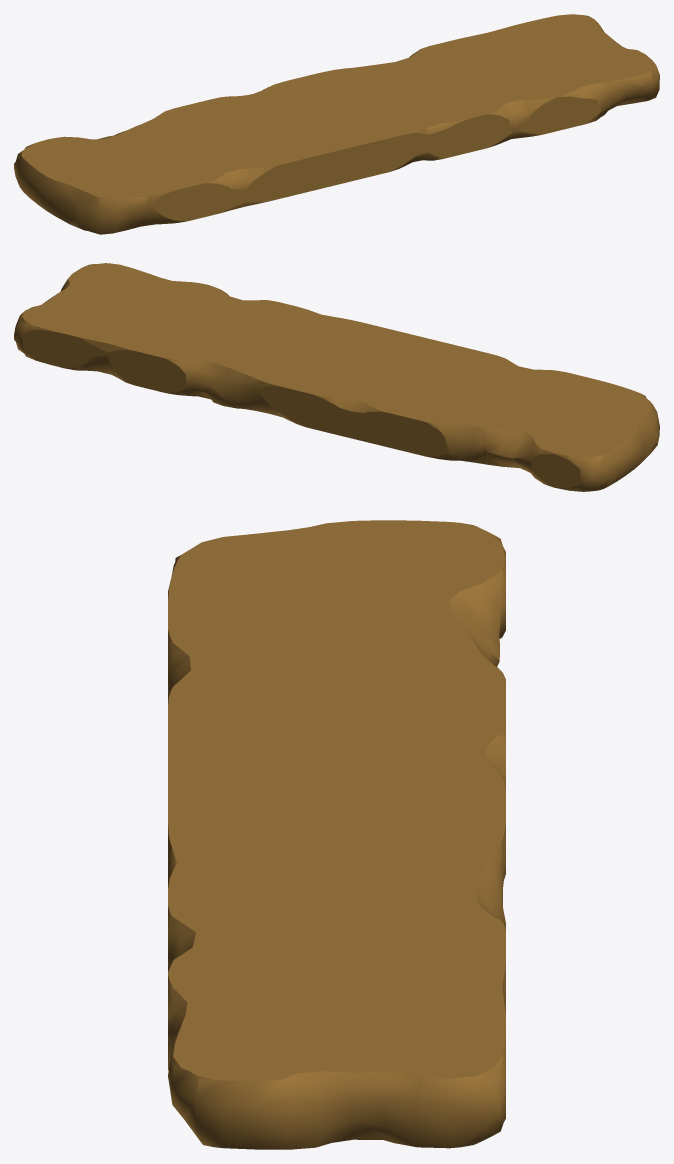
Rendered from Plank.fbx.
3 views of the same model, one above another, from view 1: azimuth 30°, elevation 25°; view 2: azimuth 150°, elevation 25°; view 3: azimuth 270°, elevation 25° (orthographic). The views are drawn at different scales.
Parts seen in each view (by area): view 1: Small_plank_003; view 2: Small_plank_003; view 3: Small_plank_003.
Part boxes in pixels (left/top/right/bottom): Small_plank_003: left=14, top=14, right=659, bottom=234; Small_plank_003: left=14, top=263, right=659, bottom=491; Small_plank_003: left=168, top=520, right=505, bottom=1149.
Size of the model in its own units: 75 by 4.15 by 18.71.
